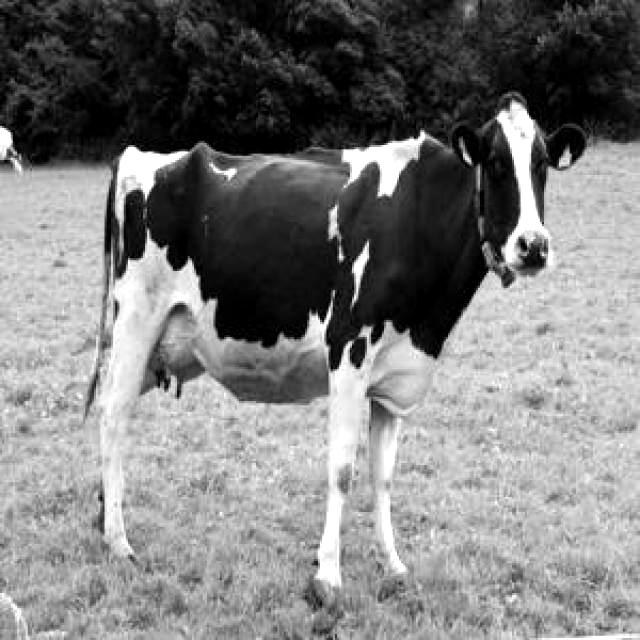COW: (95, 94, 585, 596)
